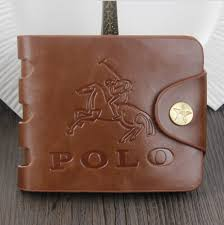monedero: (16, 34, 208, 193)
